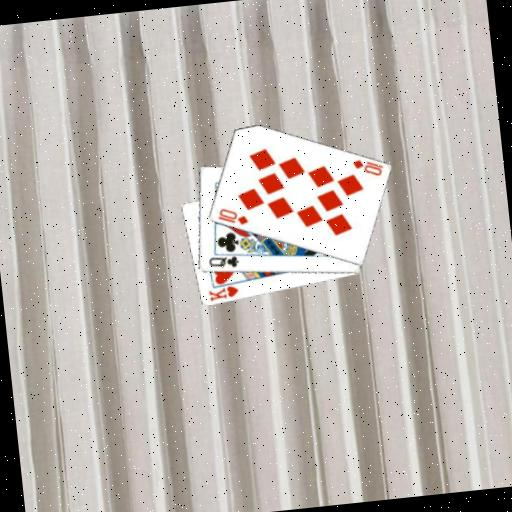10D: (349, 154, 386, 181), (214, 204, 250, 229)
KH: (205, 282, 241, 303)
QC: (205, 252, 241, 272)
